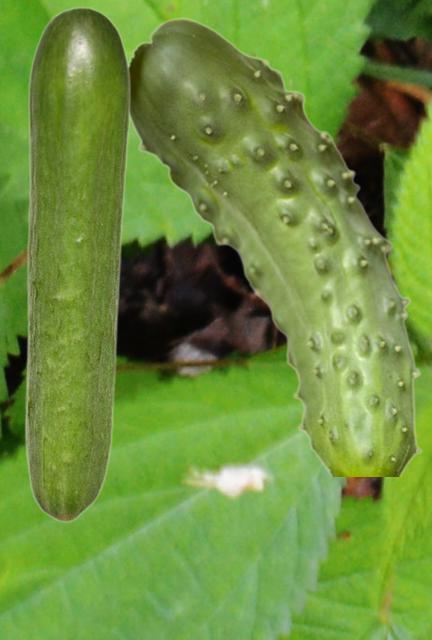cucumber: (128, 17, 422, 475), (24, 6, 130, 522)
